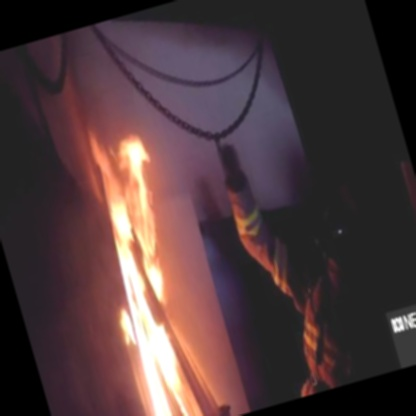fire: (58, 107, 240, 416)
